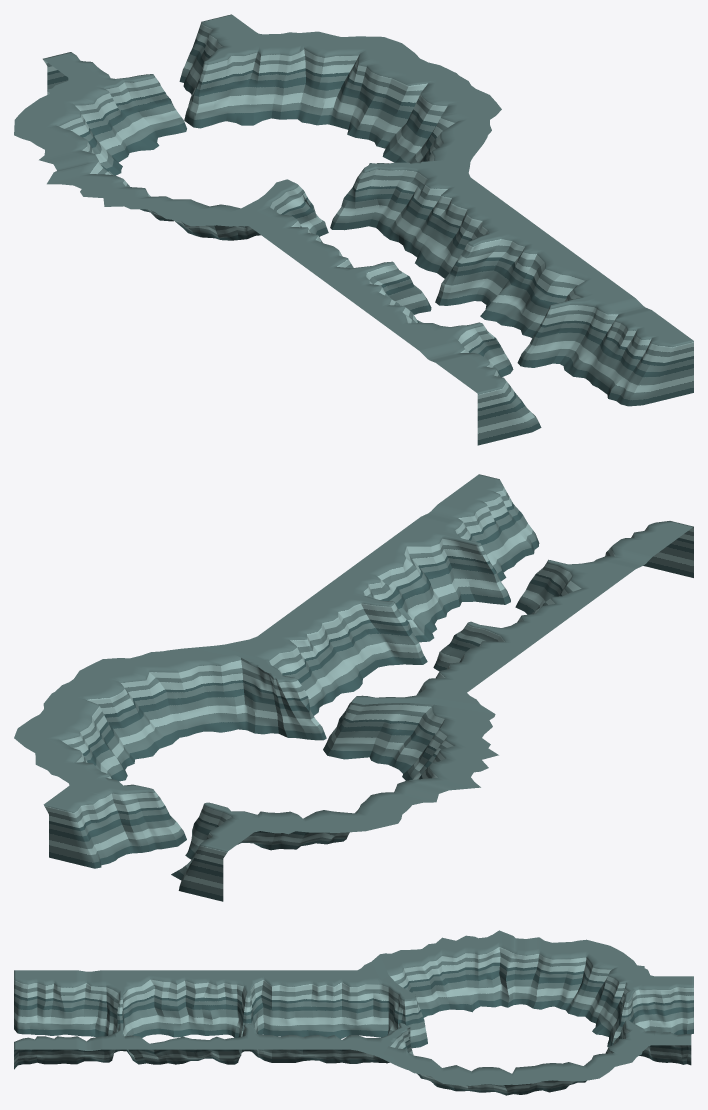
The model's file is montagnes.glb.
3 renders of one model, top to bottom at view 1: azimuth 30°, elevation 25°; view 2: azimuth 150°, elevation 25°; view 3: azimuth 270°, elevation 25°, orthographic. The views are drawn at different scales.
Visible parts, largest first — view 1: montagnes; view 2: montagnes; view 3: montagnes.
Part boxes in pixels (bbox=[...]): montagnes: bbox=[14, 14, 693, 445]; montagnes: bbox=[14, 474, 693, 901]; montagnes: bbox=[14, 930, 693, 1095].
Bounding box in the file's own units: 292 × 34.68 × 540.
1 material, 1 textured.
